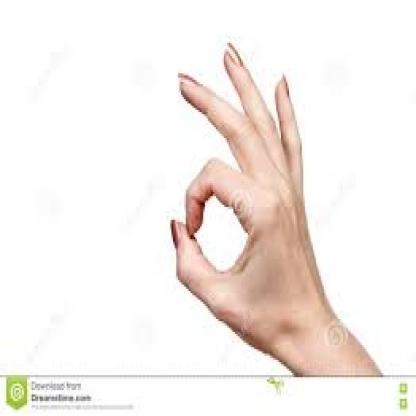ok: (162, 32, 314, 334)
